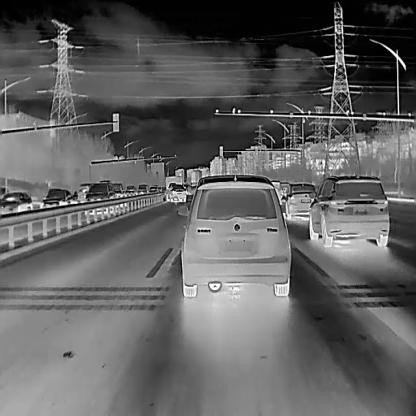car: (176, 174, 290, 297), (308, 176, 389, 246), (282, 181, 315, 219), (0, 191, 35, 213), (42, 187, 79, 207), (84, 180, 112, 202), (169, 184, 186, 202), (112, 182, 125, 196), (126, 184, 136, 196), (138, 184, 148, 195), (149, 186, 157, 194), (158, 185, 162, 191)
